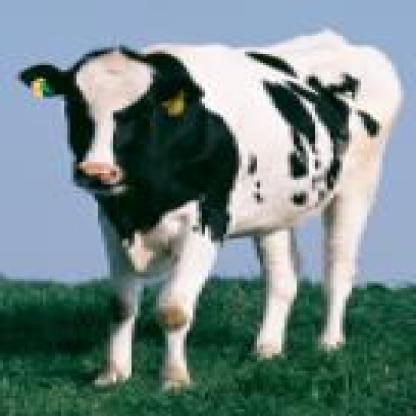cow: (17, 25, 402, 389)
